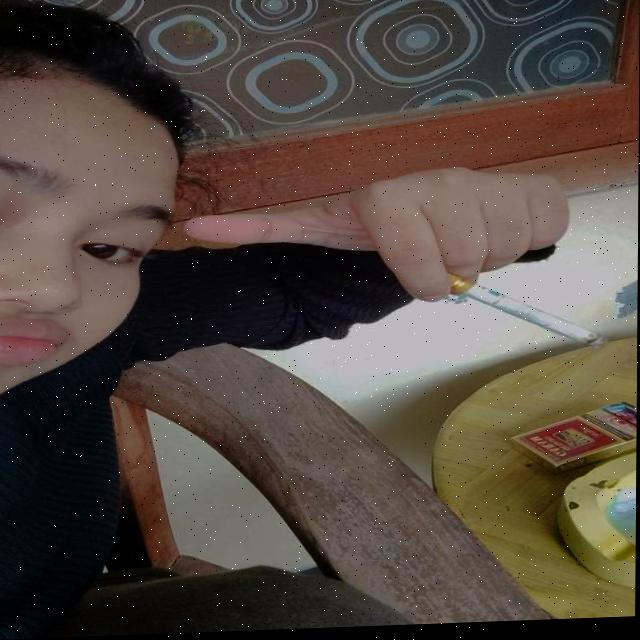cigarette: (442, 269, 608, 359)
